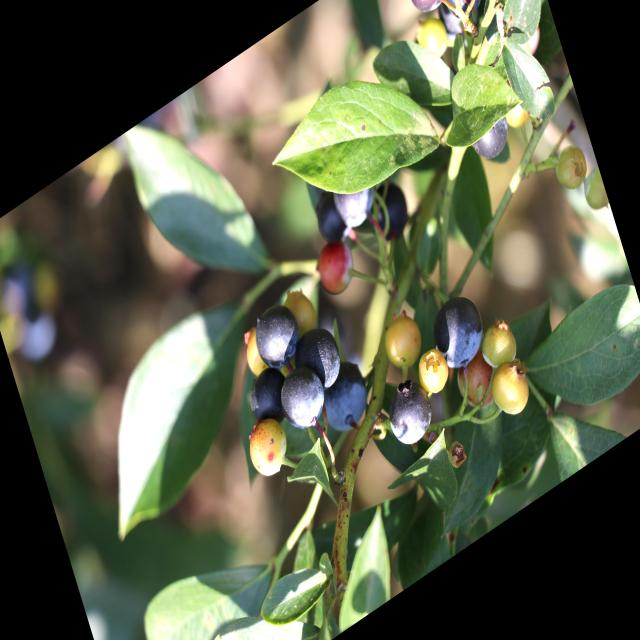blueberry: (287, 314, 356, 410), (427, 284, 494, 380), (383, 370, 441, 456), (317, 358, 374, 445), (275, 358, 332, 443), (250, 294, 307, 378), (242, 360, 295, 436), (332, 161, 380, 235), (307, 186, 352, 259), (372, 170, 416, 244), (469, 106, 516, 170), (439, 0, 486, 29), (402, 0, 453, 26)
blueberry-halfripe: (242, 411, 296, 490), (453, 348, 500, 420), (312, 231, 360, 301)
blueberry-unripe: (486, 350, 538, 426), (379, 306, 427, 378), (277, 276, 322, 351), (413, 341, 453, 402), (237, 321, 274, 386), (551, 139, 591, 197), (482, 314, 520, 372), (577, 163, 611, 223)
